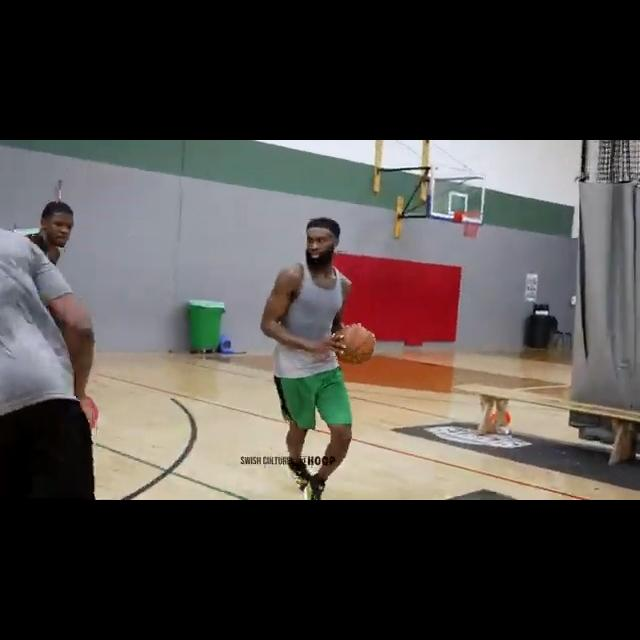basketball: (335, 325, 375, 364)
hoop: (459, 211, 483, 240)
person: (0, 228, 112, 498), (261, 217, 354, 499), (19, 200, 76, 278)
